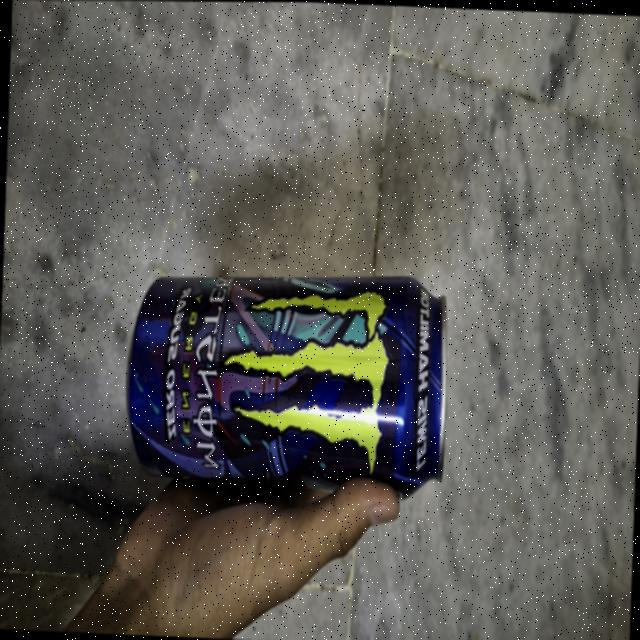Monster LH44: (125, 266, 450, 493)
